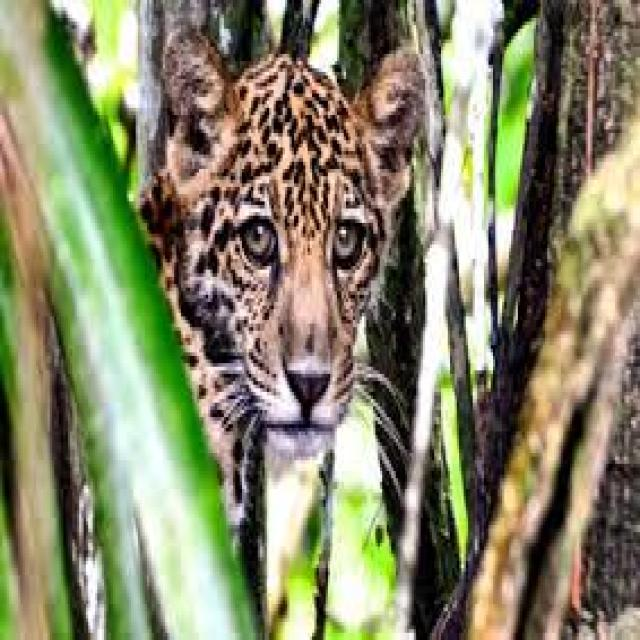Jaguar: (131, 22, 416, 496)
